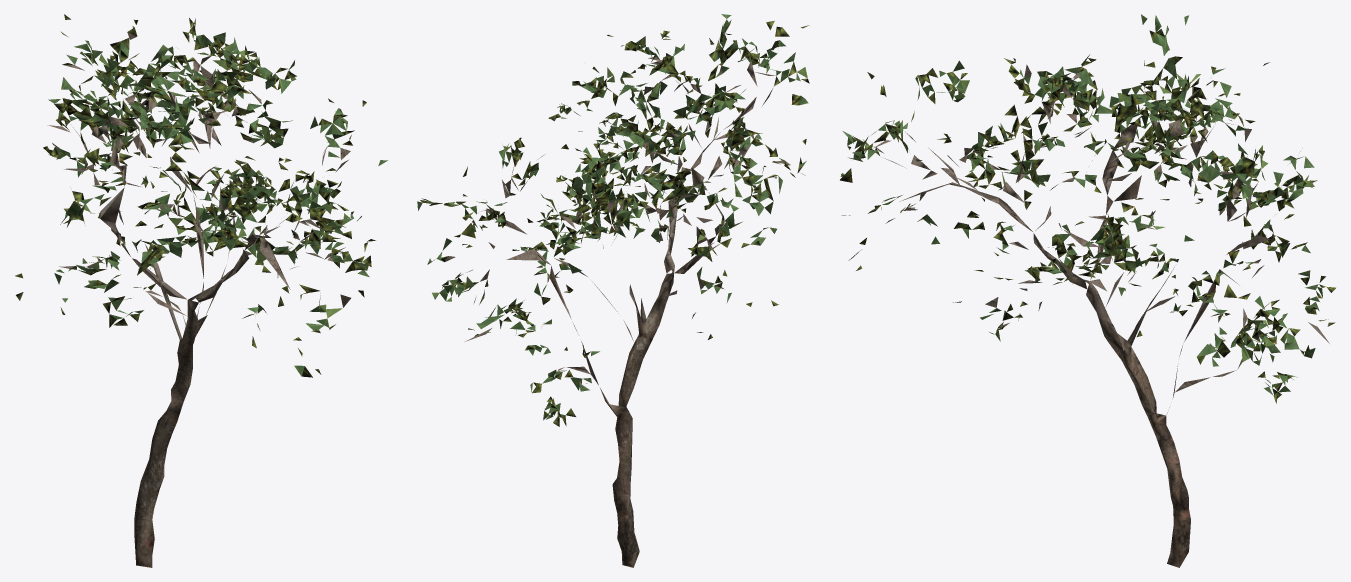
The model's file is tree_small_02_lod.glb.
The picture shows the model from 3 angles, left to right: view 1: azimuth 30°, elevation 25°; view 2: azimuth 150°, elevation 25°; view 3: azimuth 270°, elevation 25°; orthographic projection. The views are drawn at different scales.
Visible parts, largest first — view 1: tree_small_02_LOD0; view 2: tree_small_02_LOD0; view 3: tree_small_02_LOD0.
Part boxes in pixels (x1=…): tree_small_02_LOD0: x1=15, y1=14, x2=387, y2=567; tree_small_02_LOD0: x1=417, y1=14, x2=809, y2=567; tree_small_02_LOD0: x1=840, y1=14, x2=1335, y2=567.
Size of the model in its own units: 3.35 by 5.35 by 4.7.
Materials: 3 (3 with a texture image).
